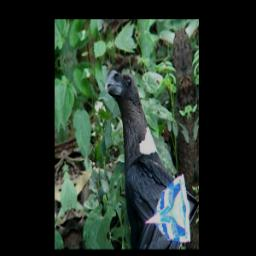Crow: (103, 51, 184, 232)
